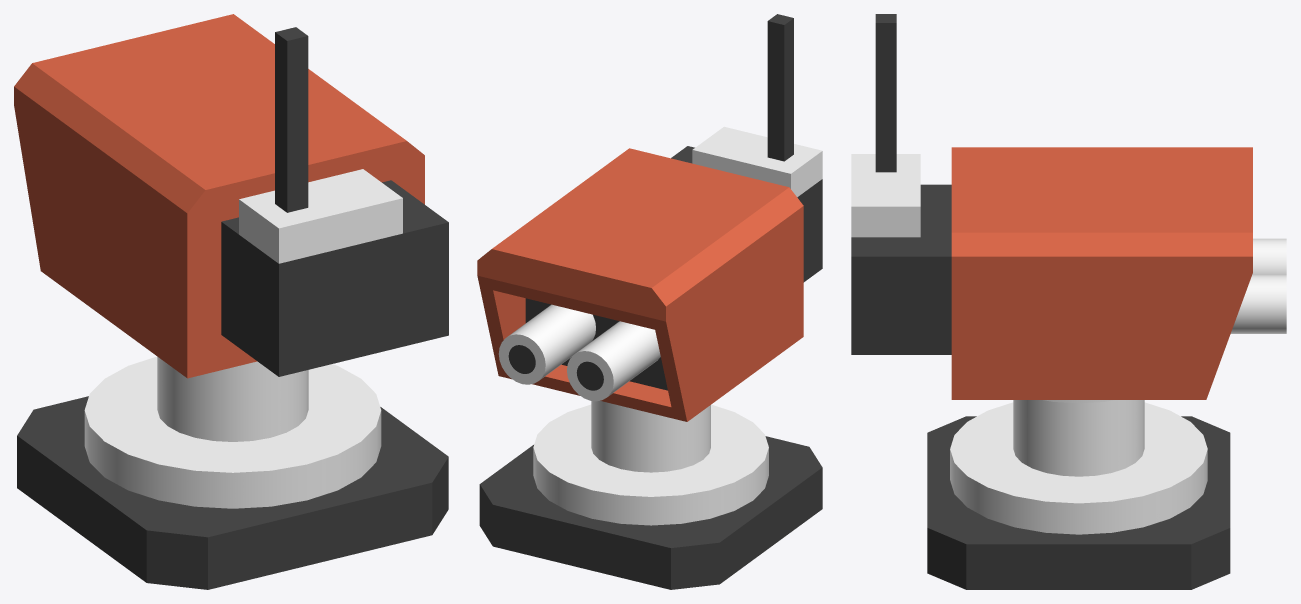
The model's file is turret_exclusive.fbx.
3 renders of one model, left to right at view 1: azimuth 30°, elevation 25°; view 2: azimuth 150°, elevation 25°; view 3: azimuth 270°, elevation 25°, orthographic. The views are drawn at different scales.
Visible parts, largest first — view 1: turretWeapon, turret_exclusive; view 2: turretWeapon, turret_exclusive; view 3: turretWeapon, turret_exclusive.
Boxes of the visible parts, left/top/right/bottom form: turretWeapon: left=14, top=14, right=448, bottom=378; turret_exclusive: left=17, top=356, right=448, bottom=589; turretWeapon: left=477, top=14, right=822, bottom=421; turret_exclusive: left=479, top=401, right=822, bottom=589; turretWeapon: left=851, top=14, right=1286, bottom=399; turret_exclusive: left=927, top=400, right=1230, bottom=589.
Bounding box in the file's own units: 4.42 × 7.81 × 6.35.
